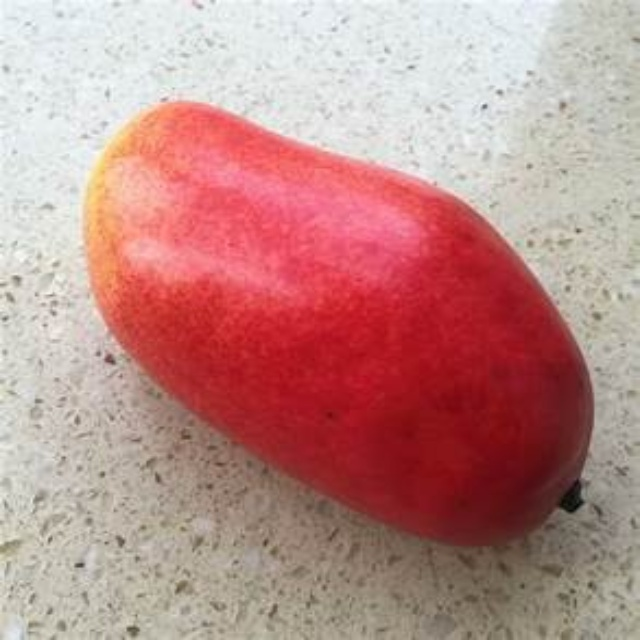mango: (86, 101, 590, 547)
